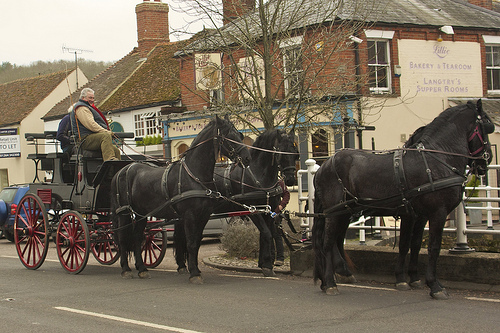horse: (311, 98, 498, 300), (106, 111, 256, 286), (172, 120, 303, 277)
